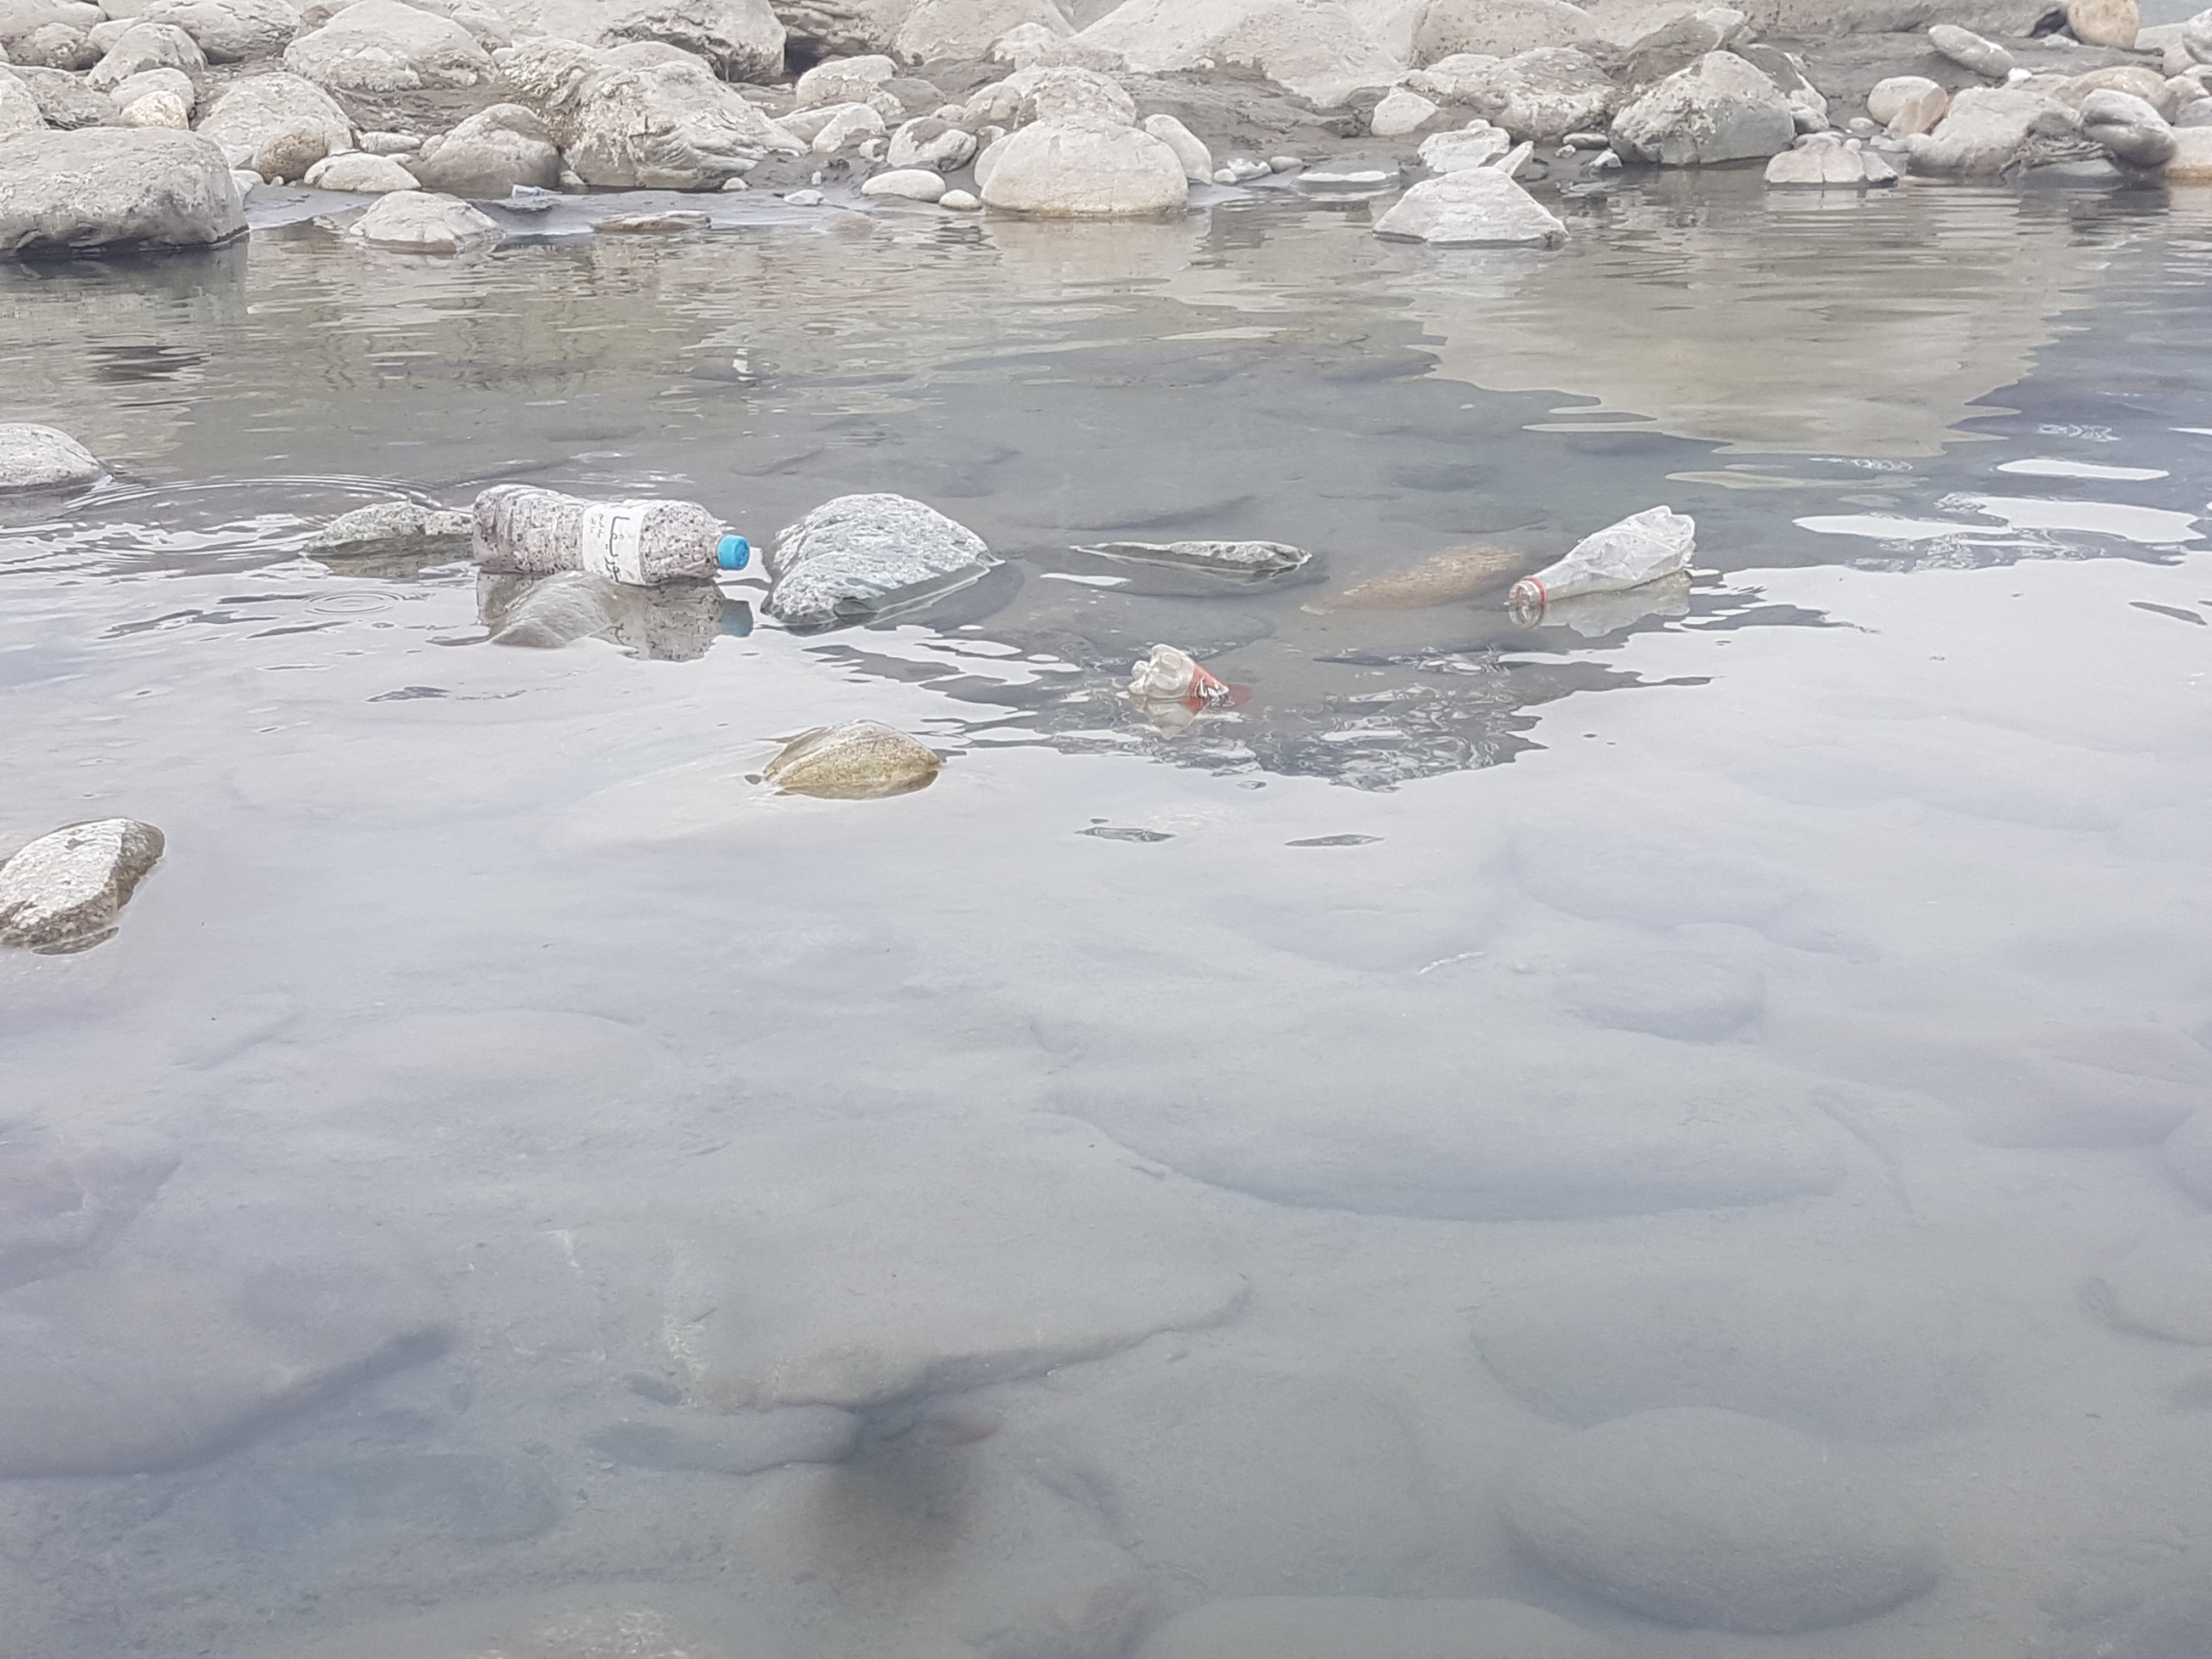Plastic Bottle: (472, 483, 751, 586), (1508, 505, 1696, 606), (1129, 643, 1228, 697), (512, 183, 563, 197)
